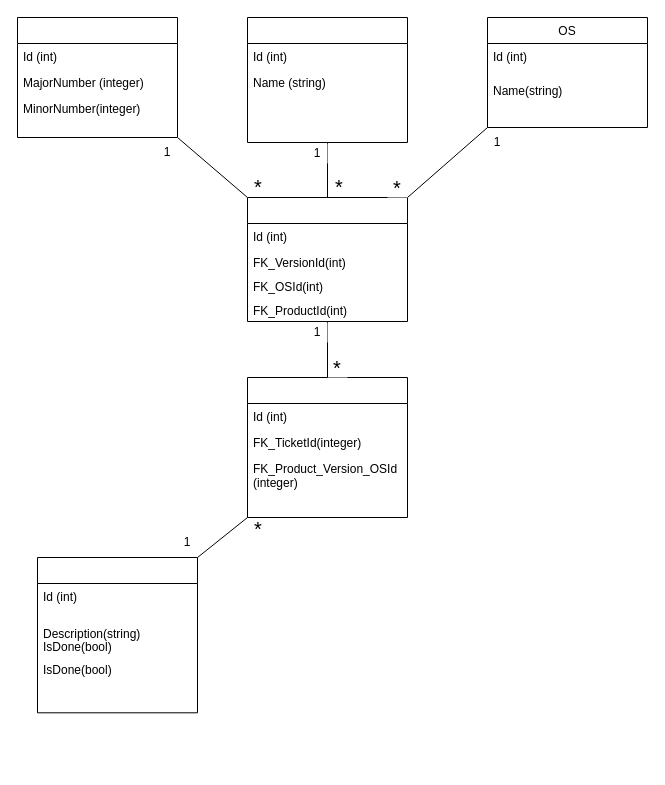
The diagram is 665 pixels wide and 785 high, and some of its shapes have lost their labels. The shapes that lost their labels are listed below. From the top down, each one's box as (x1, y1, x2, y2) in pixels, then its label:
(16, 16, 178, 138): Version
(246, 16, 408, 142): Produit
(246, 196, 408, 322): Produit_Version_OS
(246, 376, 408, 518): TicketRange
(36, 556, 198, 713): Ticket
